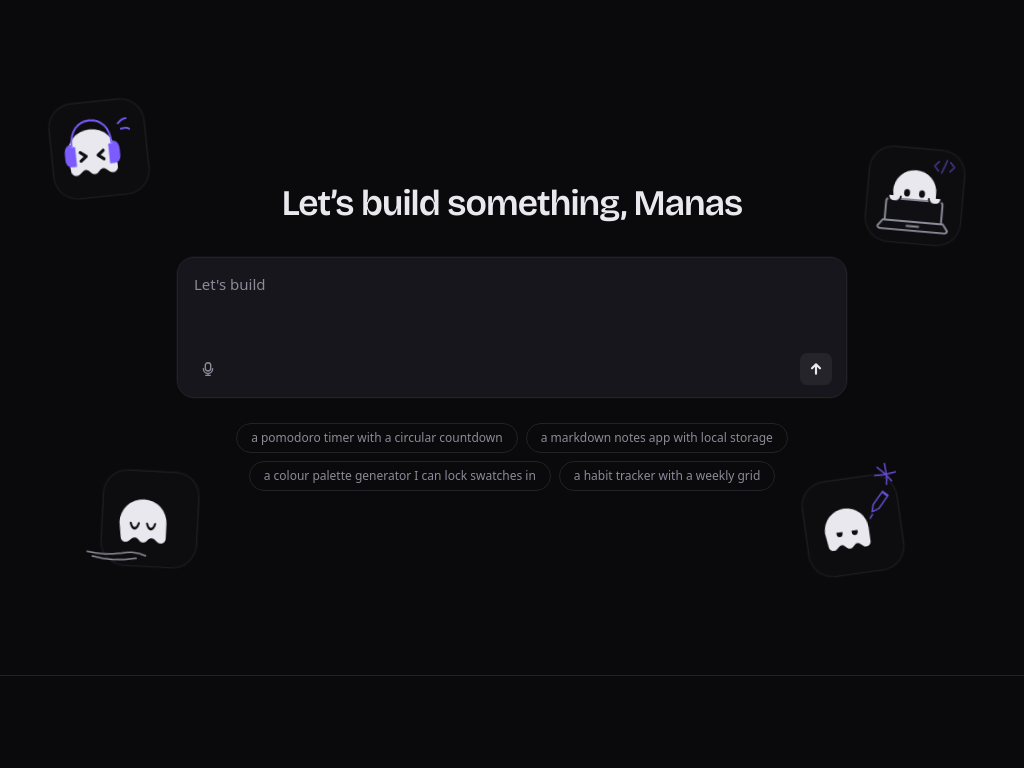
Test: the dashboard hero › stops dictation and explains denied microphone access
Click the button named "Start dictation". click: (208, 369)
box: [192,353,224,385]
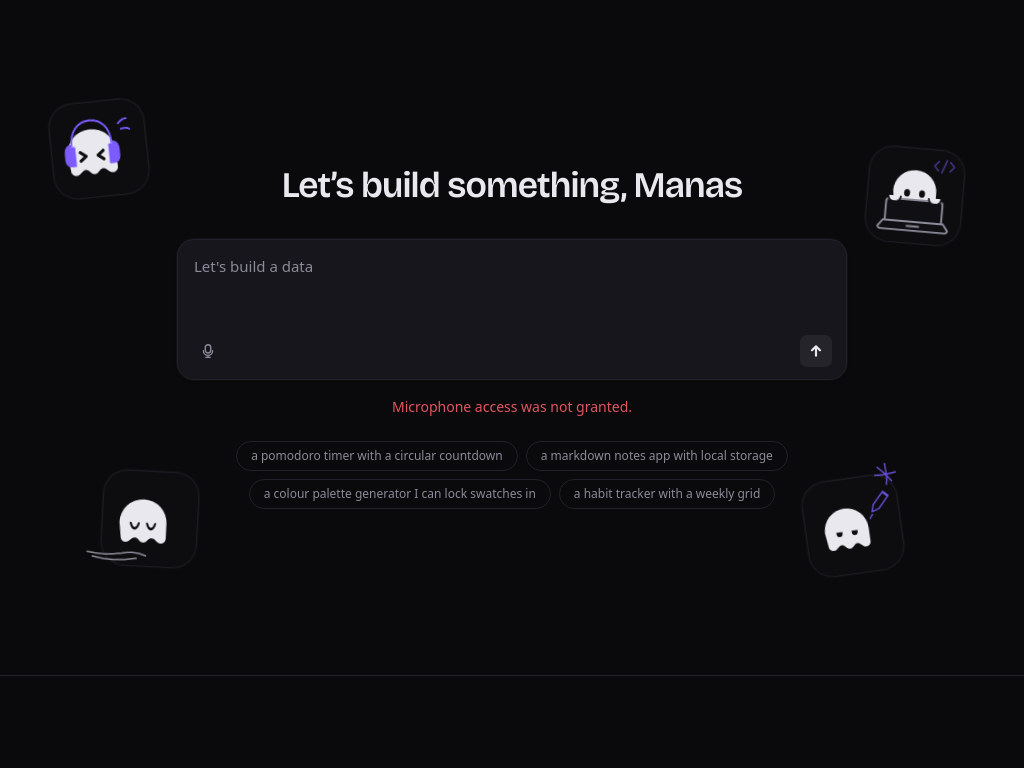
Expected: the button named "Start dictation" is shown, [192,335,224,367]
Expected: the message reads "Microphone access was not granted.", [392,397,632,416]
